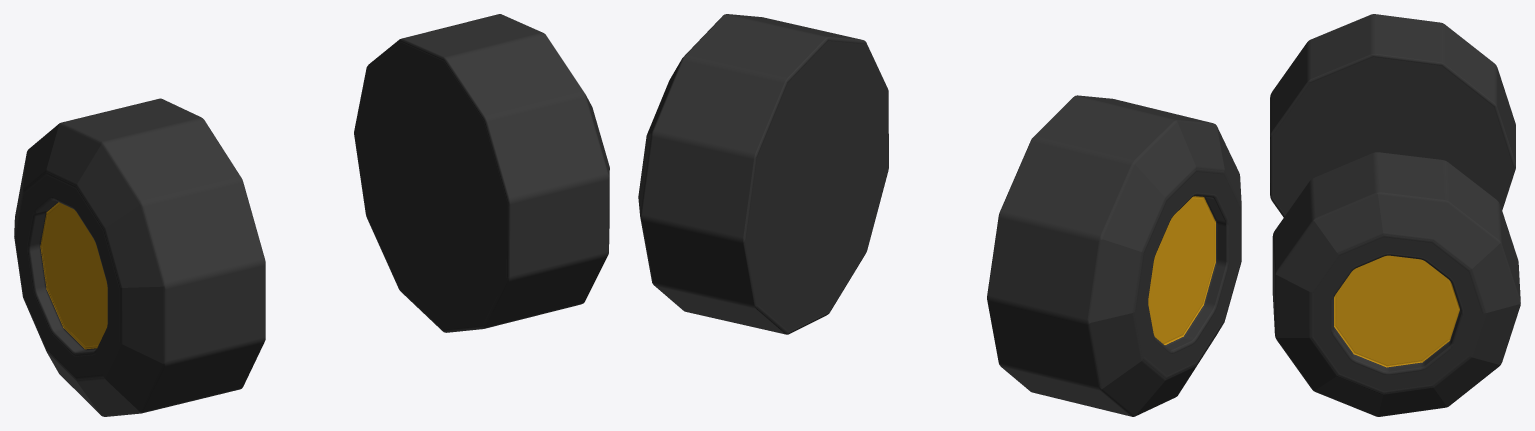
Rendered from Wheel Front.fbx.
3 renders of one model, left to right at view 1: azimuth 30°, elevation 25°; view 2: azimuth 150°, elevation 25°; view 3: azimuth 270°, elevation 25°, orthographic. The views are drawn at different scales.
Visible parts, largest first — view 1: Cylinder.002; view 2: Cylinder.002; view 3: Cylinder.002.
Boxes of the visible parts, bbox=[...] form: Cylinder.002: bbox=[14, 14, 609, 416]; Cylinder.002: bbox=[638, 14, 1241, 416]; Cylinder.002: bbox=[1270, 14, 1520, 416].
Bounding box in the file's own units: 235 × 126 × 126.
